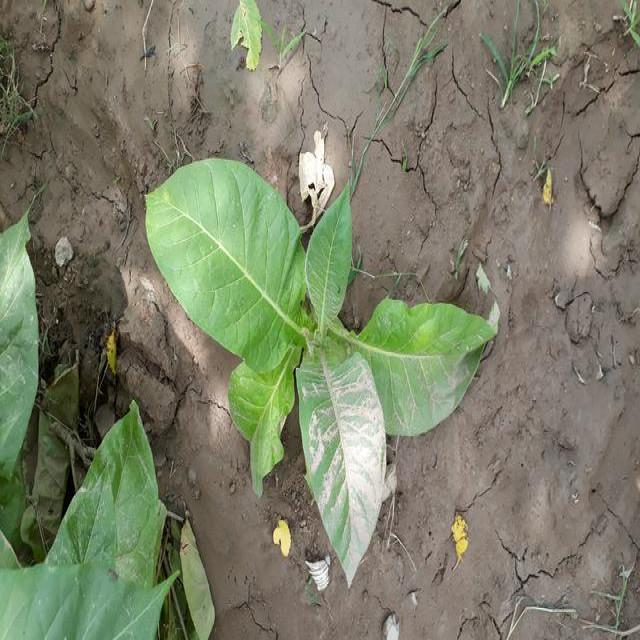crop: (148, 158, 496, 571), (0, 228, 165, 640)
